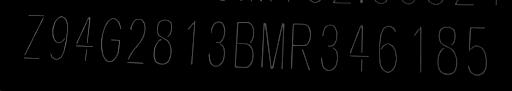letter: (286, 19, 316, 72), (432, 23, 460, 78), (258, 19, 288, 70), (465, 23, 491, 78), (346, 22, 372, 75), (374, 22, 400, 75), (98, 15, 124, 66), (20, 12, 46, 61), (232, 18, 256, 71), (316, 22, 340, 75), (124, 15, 148, 66), (206, 17, 228, 70), (152, 17, 174, 68), (48, 13, 70, 62), (72, 13, 94, 62), (411, 21, 427, 78), (184, 17, 198, 70)
